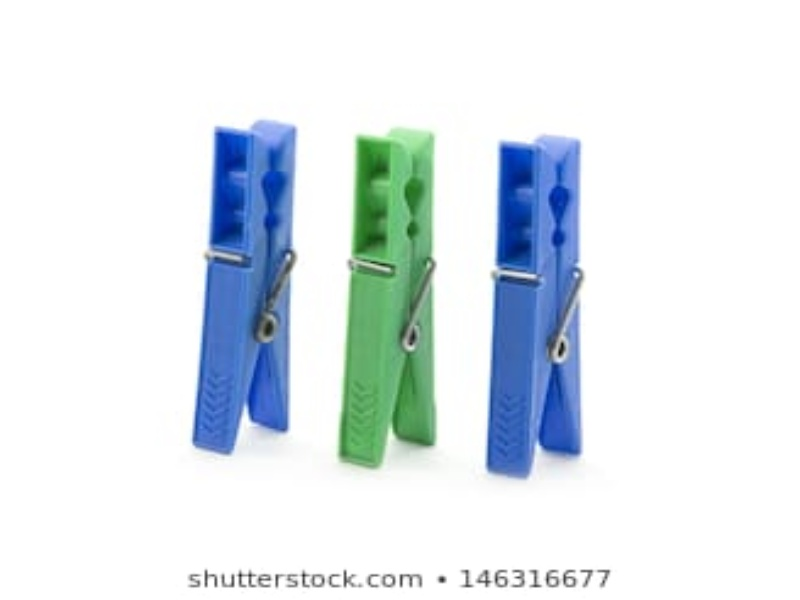plastic-peg: (336, 119, 447, 467), (489, 130, 593, 478), (190, 113, 296, 454)
